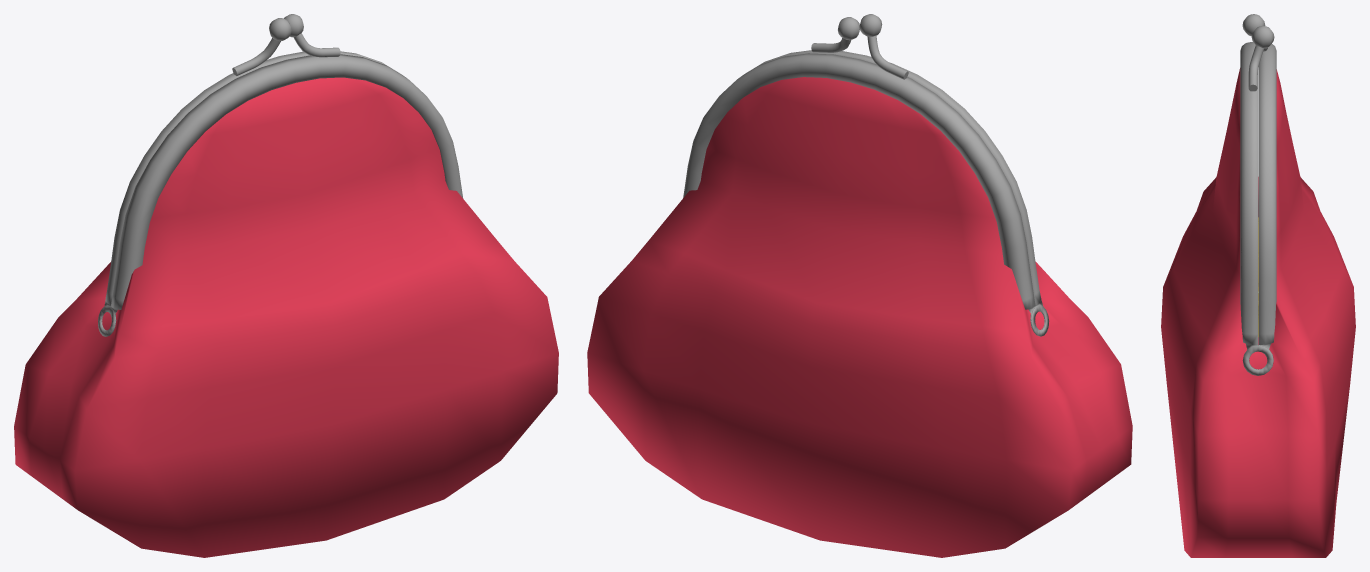
The model's file is Gamaguchi.fbx.
3 renders of one model, left to right at view 1: azimuth 30°, elevation 25°; view 2: azimuth 150°, elevation 25°; view 3: azimuth 270°, elevation 25°, orthographic. The views are drawn at different scales.
Visible parts, largest first — view 1: Gamaguchi; view 2: Gamaguchi; view 3: Gamaguchi.
Boxes of the visible parts, left/top/right/bottom form: Gamaguchi: left=14, top=14, right=558, bottom=557; Gamaguchi: left=587, top=14, right=1132, bottom=557; Gamaguchi: left=1161, top=14, right=1355, bottom=557.
Size of the model in its own units: 0.0954 by 0.0935 by 0.0341.
